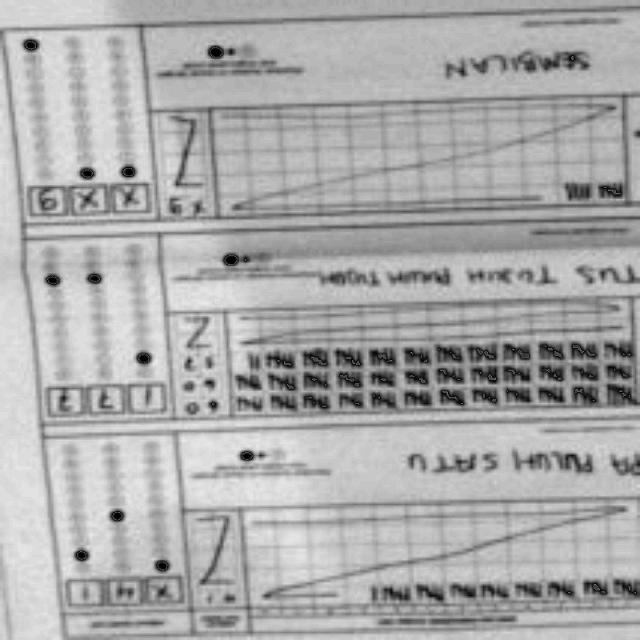Suara: (64, 576, 188, 612), (46, 382, 170, 418), (24, 184, 153, 218)
